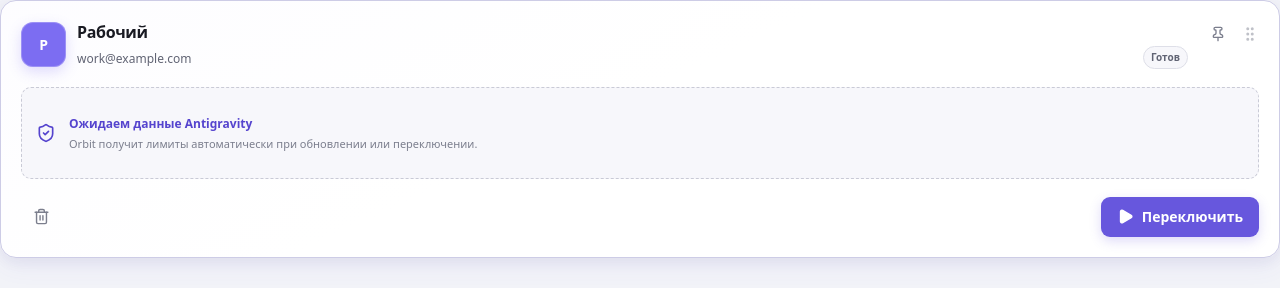
Test: AccountCard inline rename › opens the editor with one context-menu click and cancels with Escape
Right-click the button named "Рабочий. Переименовать аккаунт".
right_click(112, 32)  # box [74, 19, 1185, 46]
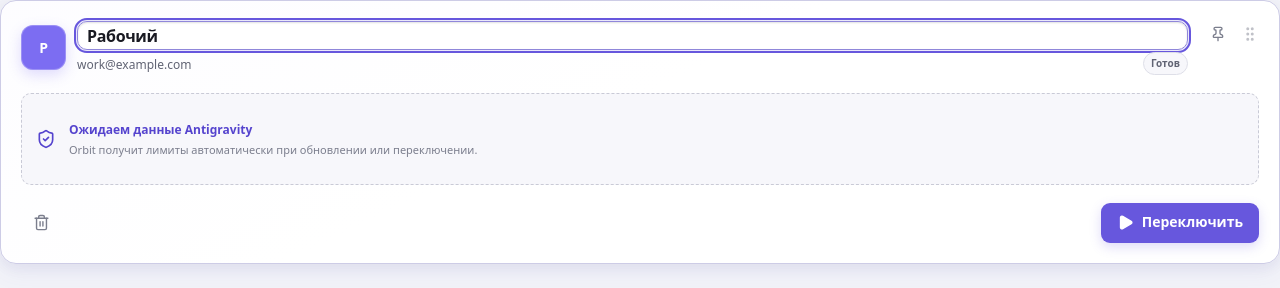
Replace the text in the field named "Новое название для Рабочий" with "Не сохранять" at {"x": 632, "y": 36}, box [77, 21, 1188, 50]
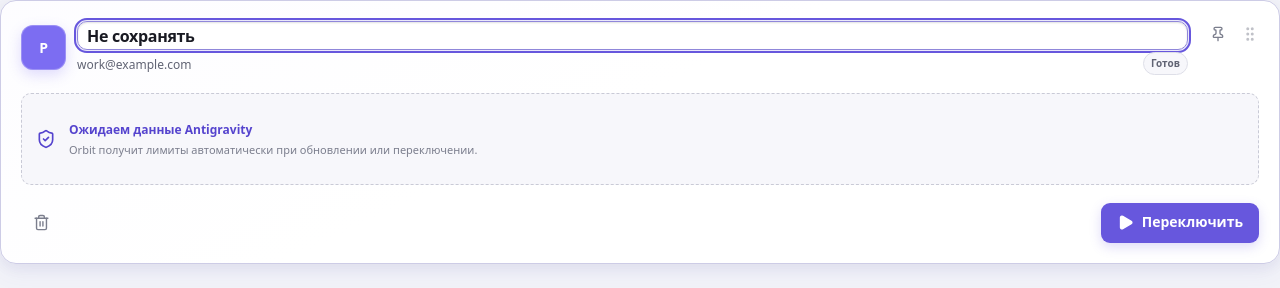
Press Escape in the field named "Новое название для Рабочий", box [77, 21, 1188, 50]
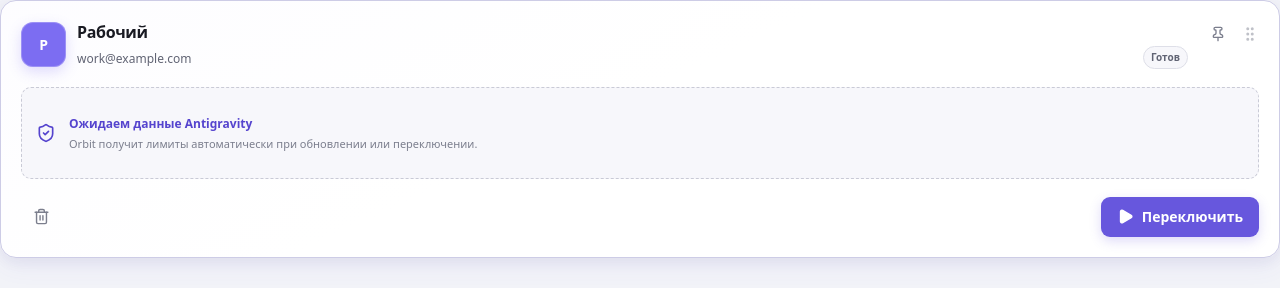
Expected: the button named "Рабочий. Переименовать аккаунт" is shown, [77, 21, 1185, 44]
